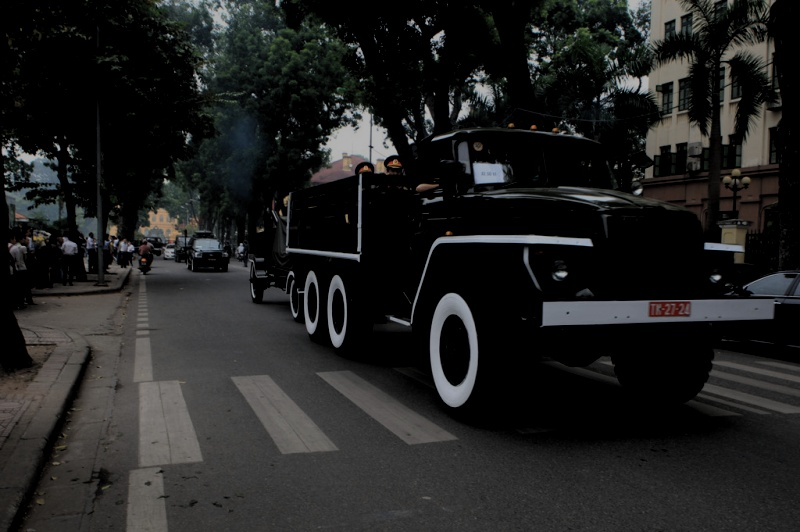plate: (644, 298, 692, 322)
